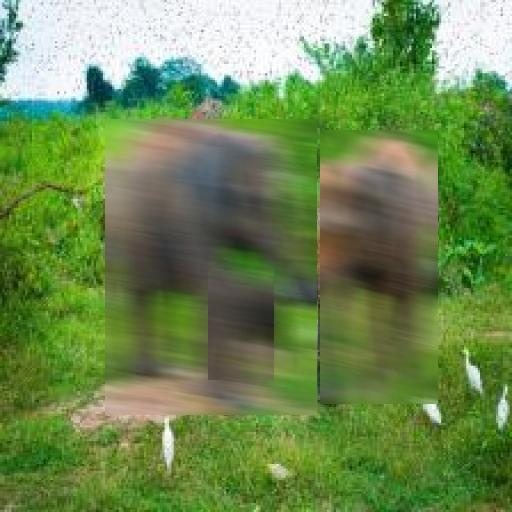Elephant: (105, 119, 317, 415), (320, 130, 438, 404), (208, 270, 274, 380)
